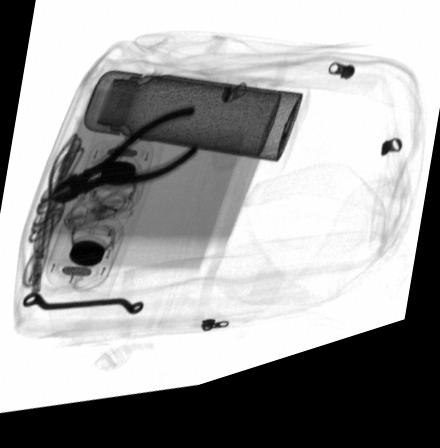Pliers: (47, 116, 199, 208)
Wrench: (21, 293, 141, 321)
